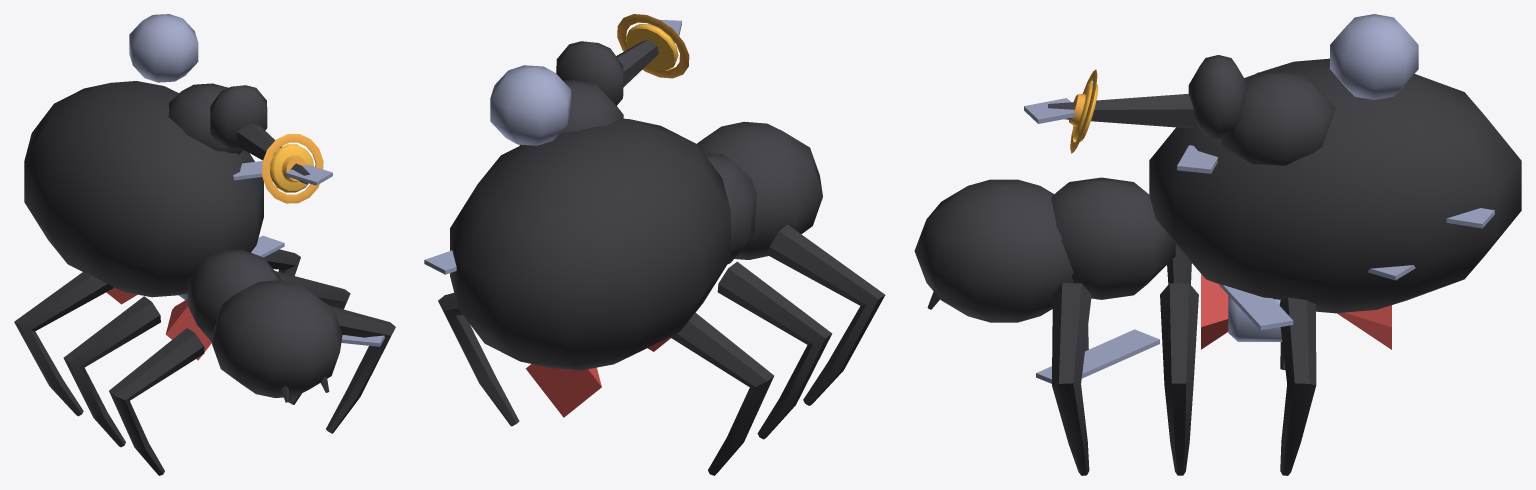
The model's file is silk_widow.glb.
3 views of the same model, side by side, from view 1: azimuth 30°, elevation 25°; view 2: azimuth 150°, elevation 25°; view 3: azimuth 270°, elevation 25° (orthographic). The views are drawn at different scales.
Visible parts, largest first — view 1: SilkWidow; view 2: SilkWidow; view 3: SilkWidow.
Boxes of the visible parts, x1,y1,x2,y2 form: SilkWidow: [14, 14, 395, 475]; SilkWidow: [424, 14, 885, 475]; SilkWidow: [914, 14, 1521, 475].
Size of the model in its own units: 2.75 by 3.2 by 4.13.
Materials: 1 (1 with a texture image).
